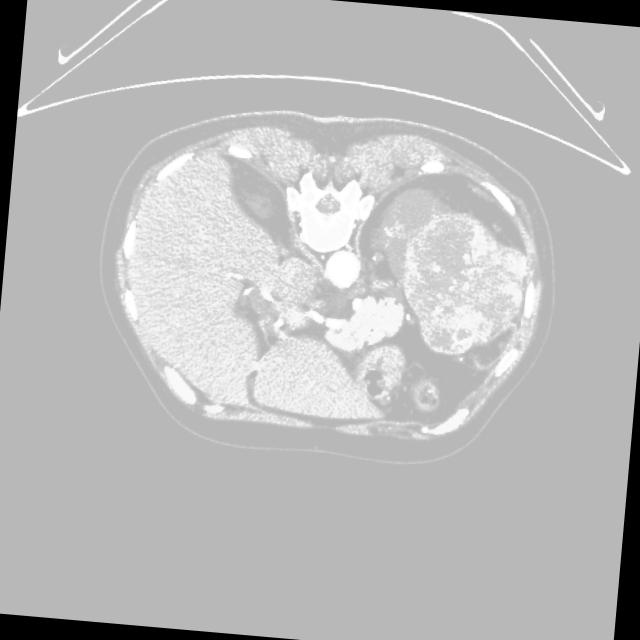TUMOR: (210, 197, 602, 418)
